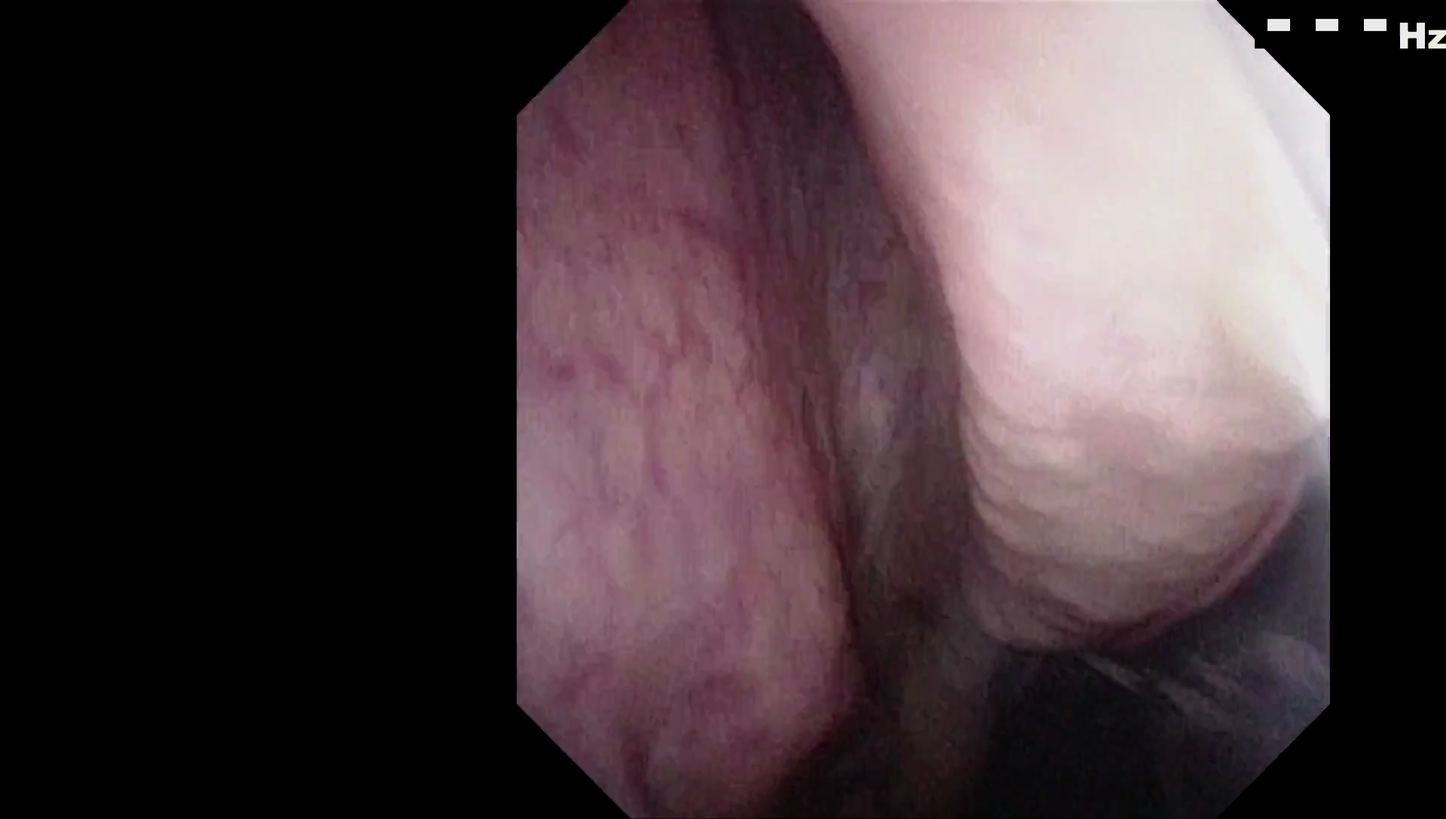close_wall: (889, 74, 1278, 424)
next: (932, 598, 1215, 819), (740, 583, 938, 819)
